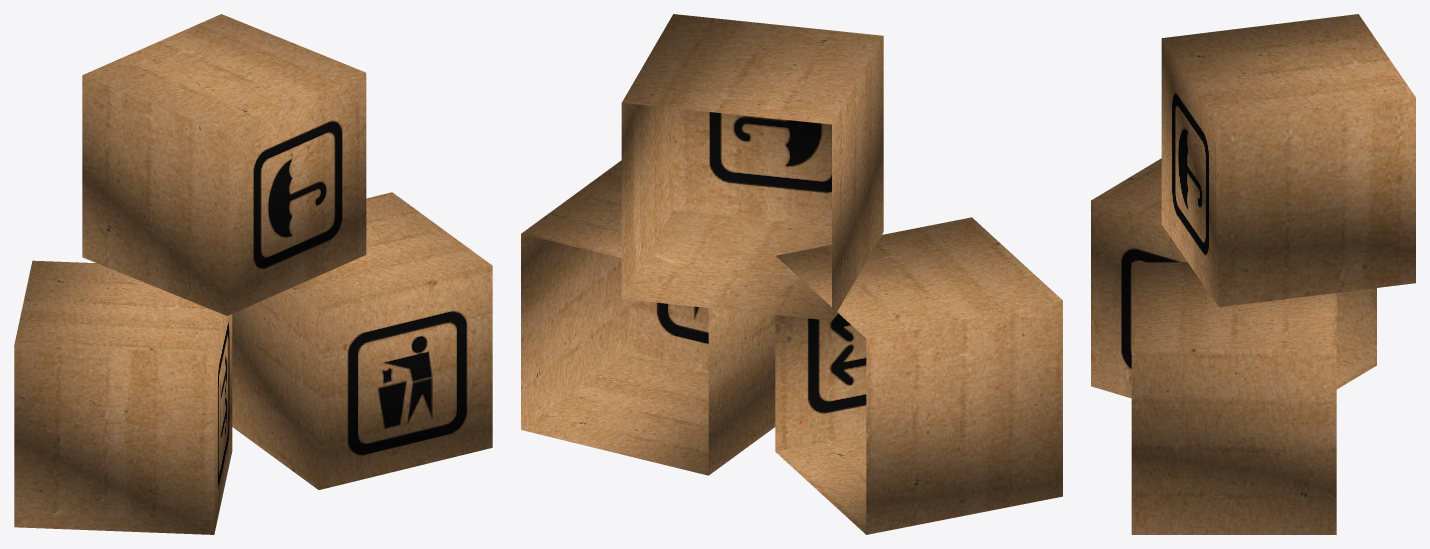
The model's file is boxesModel.fbx.
3 renders of one model, left to right at view 1: azimuth 30°, elevation 25°; view 2: azimuth 150°, elevation 25°; view 3: azimuth 270°, elevation 25°, orthographic. The views are drawn at different scales.
Parts seen in each view (by area): view 1: Cube_002, Cube_001, Cube; view 2: Cube, Cube_002, Cube_001; view 3: Cube_002, Cube_001, Cube.
Part boxes in pixels (<box>): Cube_002: <box>82,14,366,315</box>; Cube_001: <box>232,192,492,489</box>; Cube: <box>14,260,232,534</box>; Cube: <box>775,217,1062,534</box>; Cube_002: <box>621,14,883,320</box>; Cube_001: <box>521,160,775,475</box>; Cube_002: <box>1161,14,1415,307</box>; Cube_001: <box>1131,262,1336,534</box>; Cube: <box>1091,158,1376,398</box>.
Size of the model in its own units: 5.06 by 4 by 3.17.
1 material, 1 textured.
